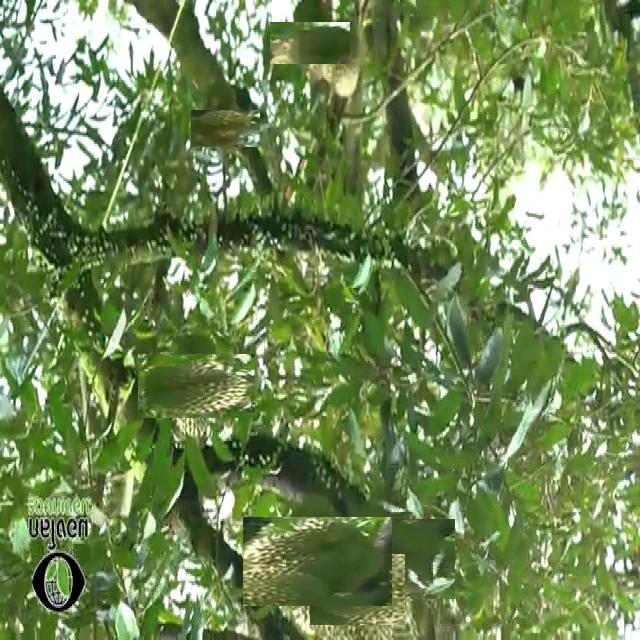durian: (258, 501, 377, 621), (334, 504, 442, 612), (151, 341, 242, 432), (315, 548, 399, 631), (317, 13, 364, 104), (279, 12, 341, 73), (198, 102, 252, 155)
